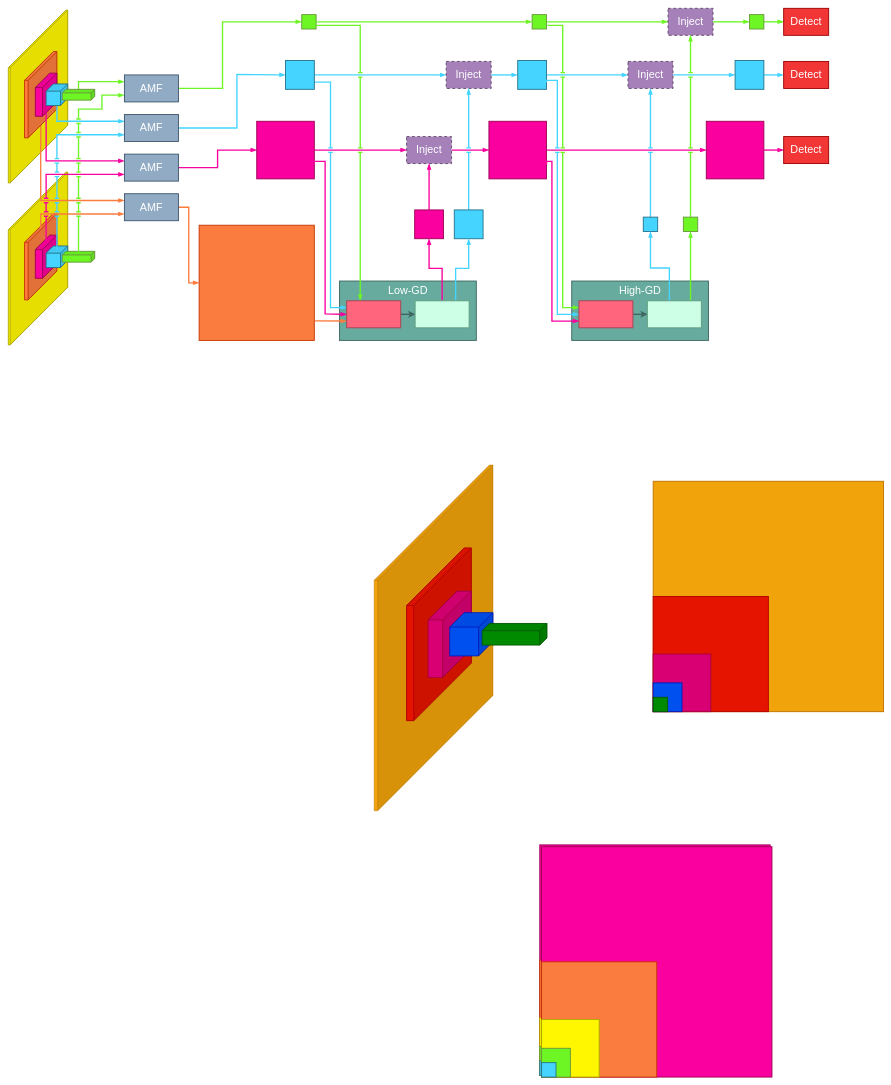
The diagram is 891 pixels wide and 1085 high, and some of its shapes have lost their labels. The centre of each missing label's shape, as x and y in pixels:
"High -IFM" goes at pixel 674 314.
"High-FAM" goes at pixel 605 314.
"Low-FAM" goes at pixel 373 314.
"Low-IFM" goes at pixel 441 314.
